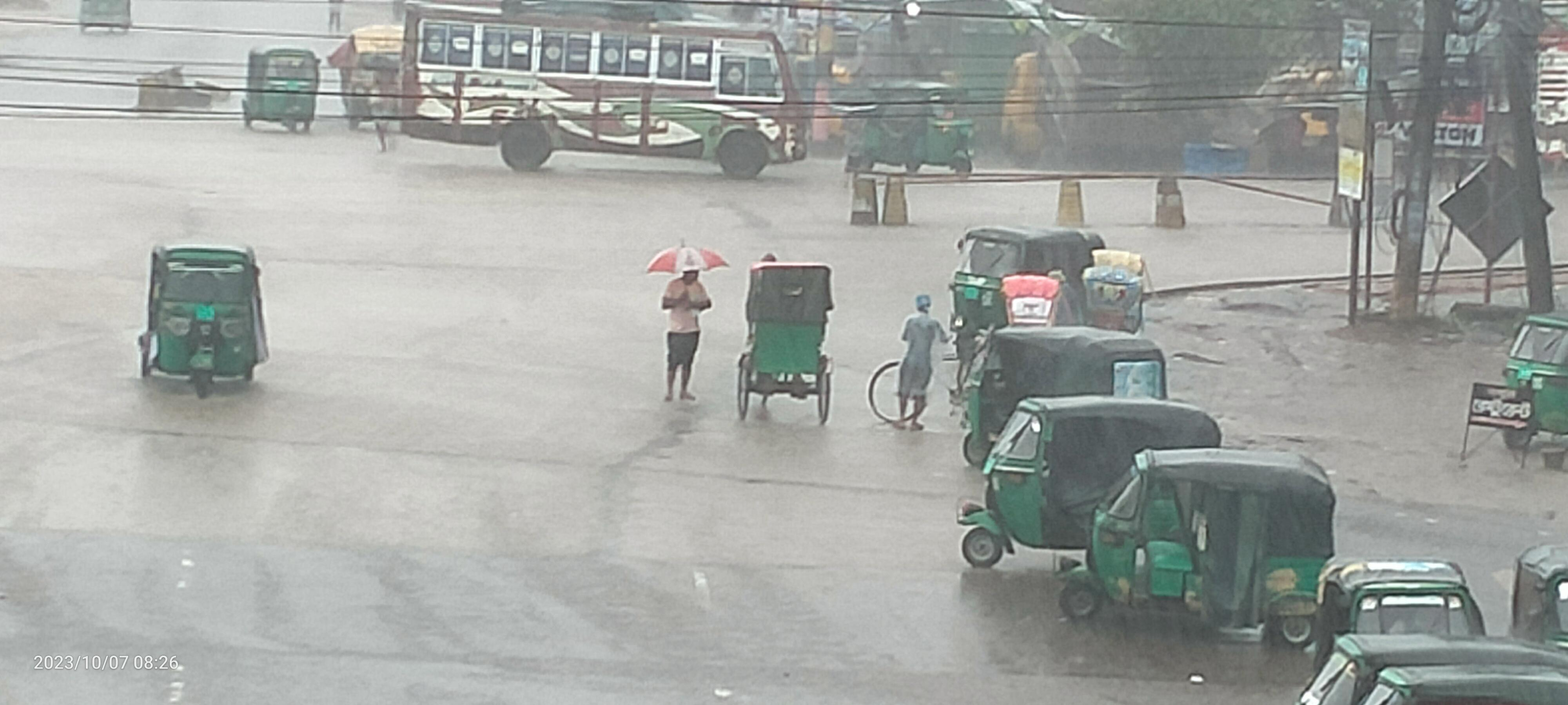Bus: (379, 0, 831, 218)
Car: (710, 248, 850, 454), (321, 0, 422, 152)
